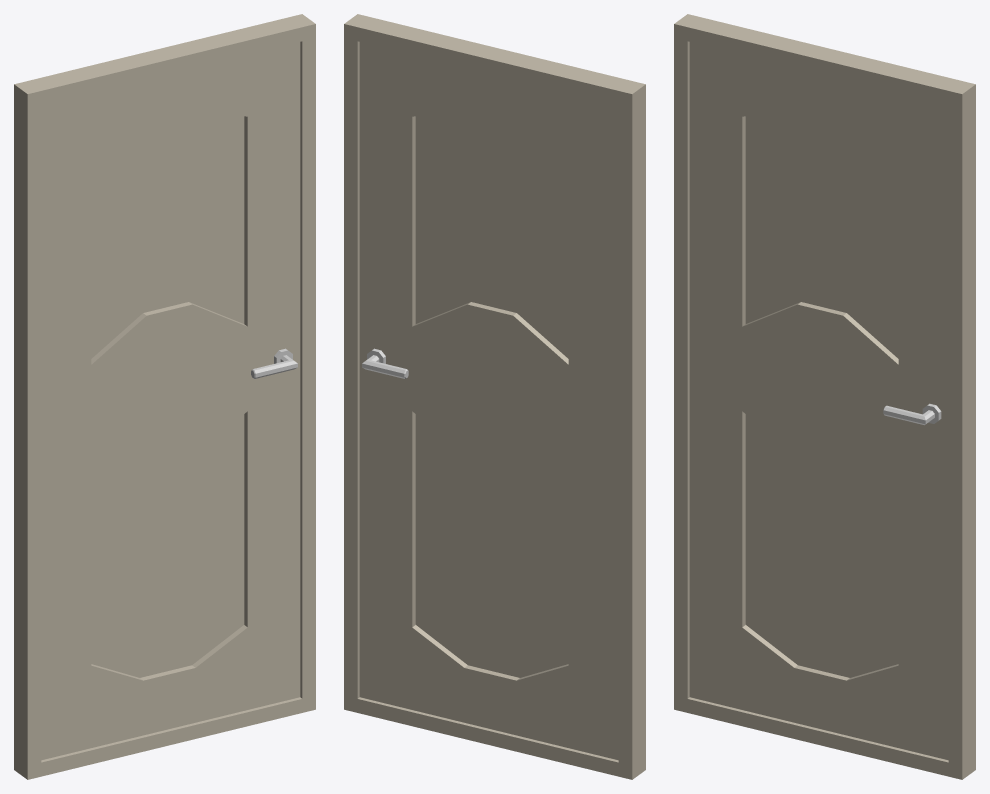
Rendered from Mesh_Door_D02.fbx.
3 renders of one model, left to right at view 1: azimuth 30°, elevation 25°; view 2: azimuth 150°, elevation 25°; view 3: azimuth 330°, elevation 25°, orthographic.
Parts seen in each view (by area): view 1: Mesh_Door_D02; view 2: Mesh_Door_D02; view 3: Mesh_Door_D02.
Boxes of the visible parts, x1,y1,x2,y2 form: Mesh_Door_D02: [14, 14, 315, 779]; Mesh_Door_D02: [344, 14, 645, 779]; Mesh_Door_D02: [674, 14, 975, 779].
Size of the model in its own units: 0.9 by 2.05 by 0.1742.
